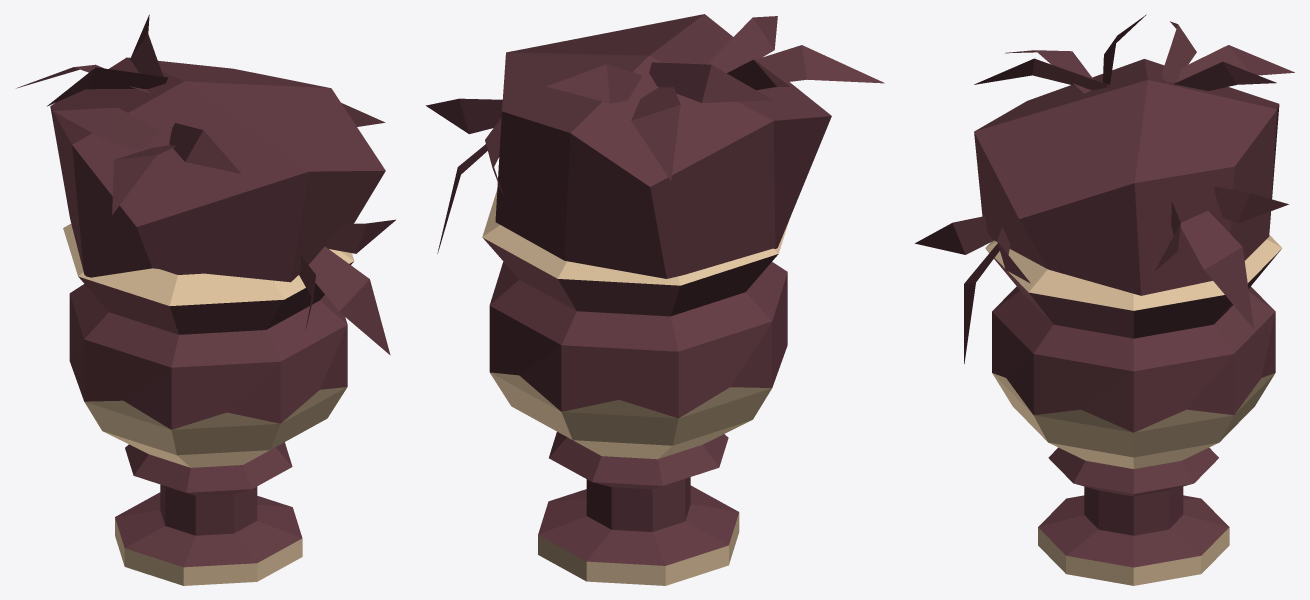
The model's file is SM_Flowerpot_Standing_Big_Empire.fbx.
3 renders of one model, left to right at view 1: azimuth 30°, elevation 25°; view 2: azimuth 150°, elevation 25°; view 3: azimuth 270°, elevation 25°, orthographic. The views are drawn at different scales.
Parts seen in each view (by area): view 1: SM_Flowerpot_Standing_Big_Empire; view 2: SM_Flowerpot_Standing_Big_Empire; view 3: SM_Flowerpot_Standing_Big_Empire.
Part boxes in pixels (x1=…): SM_Flowerpot_Standing_Big_Empire: x1=16, y1=14, x2=395, y2=585; SM_Flowerpot_Standing_Big_Empire: x1=426, y1=14, x2=884, y2=585; SM_Flowerpot_Standing_Big_Empire: x1=915, y1=14, x2=1294, y2=585.
Bounding box in the file's own units: 1.25 × 1.65 × 1.19.
